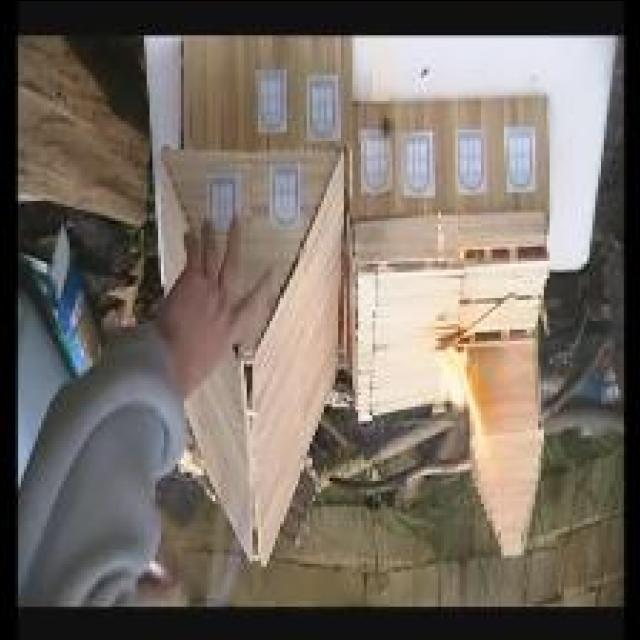Fire: (446, 350, 483, 436)
